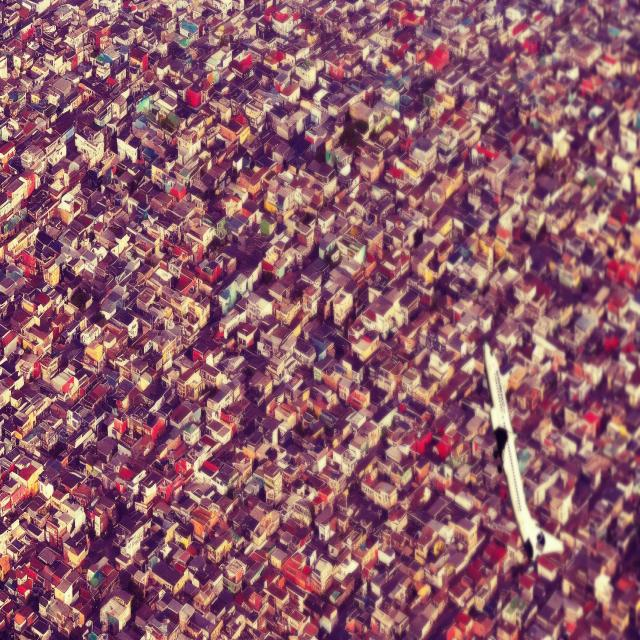airplane: (482, 341, 564, 564)
